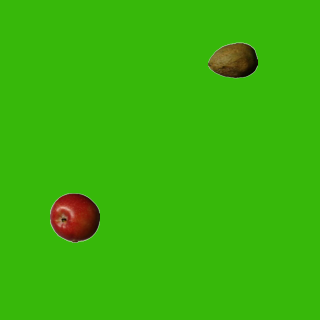Apple Braeburn: (49, 192, 99, 242)
Papaya: (207, 35, 257, 85)
